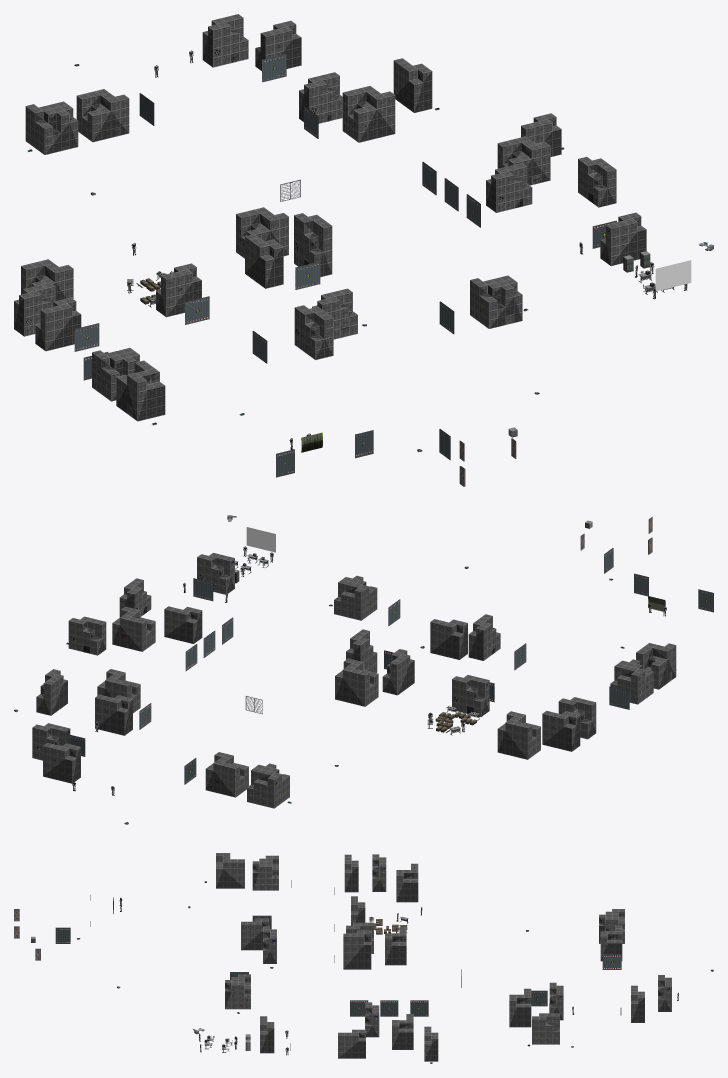
3 views of the same model, one above another, from view 1: azimuth 30°, elevation 25°; view 2: azimuth 150°, elevation 25°; view 3: azimuth 270°, elevation 25° (orthographic). The views are drawn at different scales.
Visible parts, largest first — view 1: primary; view 2: primary; view 3: primary.
Part boxes in pixels (x1,y1,x2,y2): primary: (14, 14, 713, 486); primary: (14, 515, 713, 824); primary: (14, 853, 713, 1063).
Bounding box in the file's own units: 1834 × 169 × 2799.
Materials: 476 (470 with a texture image).
